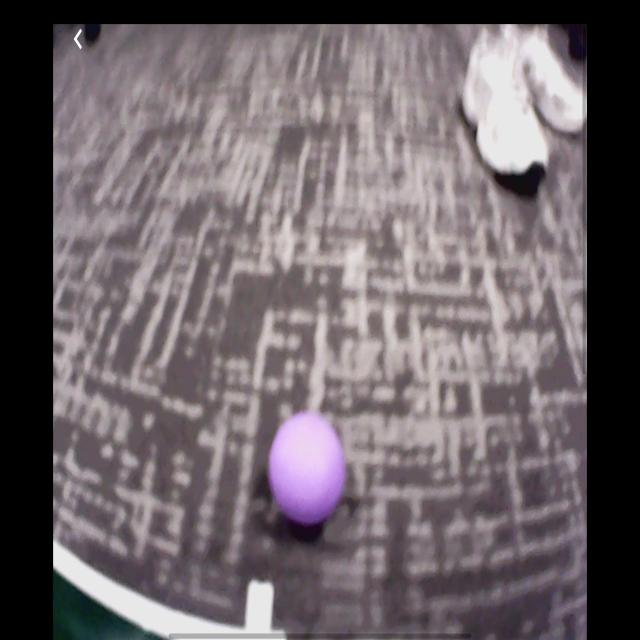ball: (267, 411, 347, 528)
